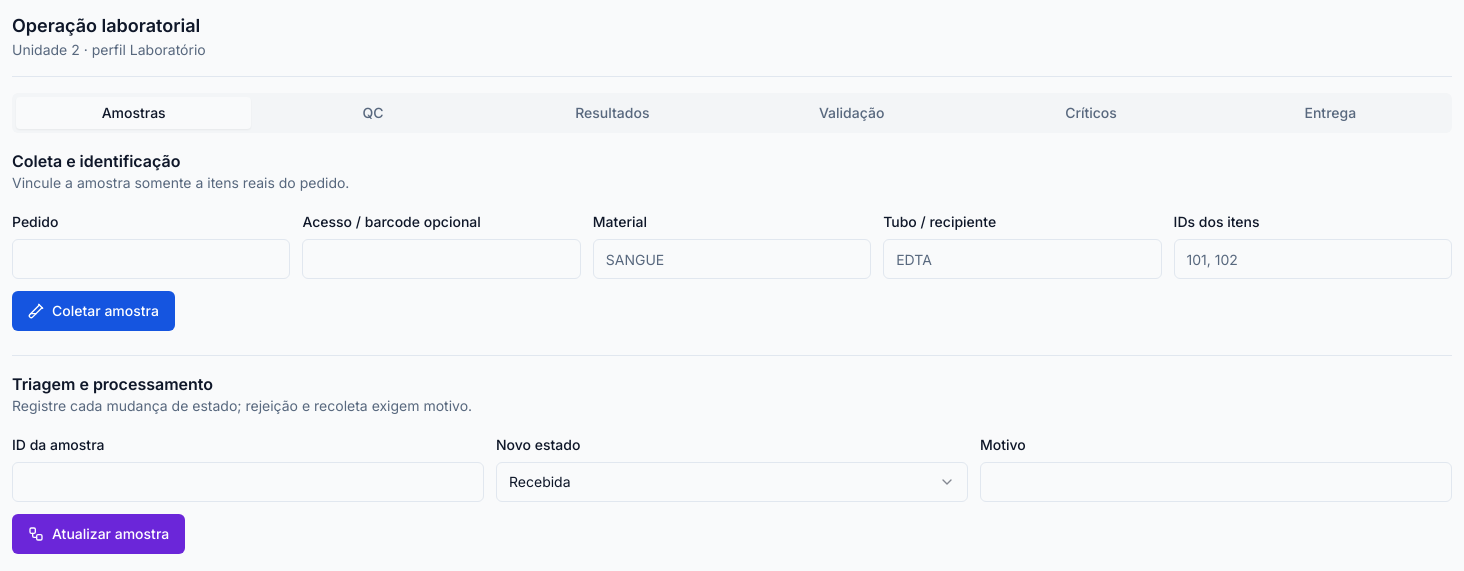
Test: LisOperationsPanel › impede laboratório de liberar resultado e permite validação técnica
This screenshot has width=1464, height=571.
Later steps or results of the test are not shown.
Press the mouse on the tab "Validação": (852, 113) x1=734 y1=97 x2=969 y2=129
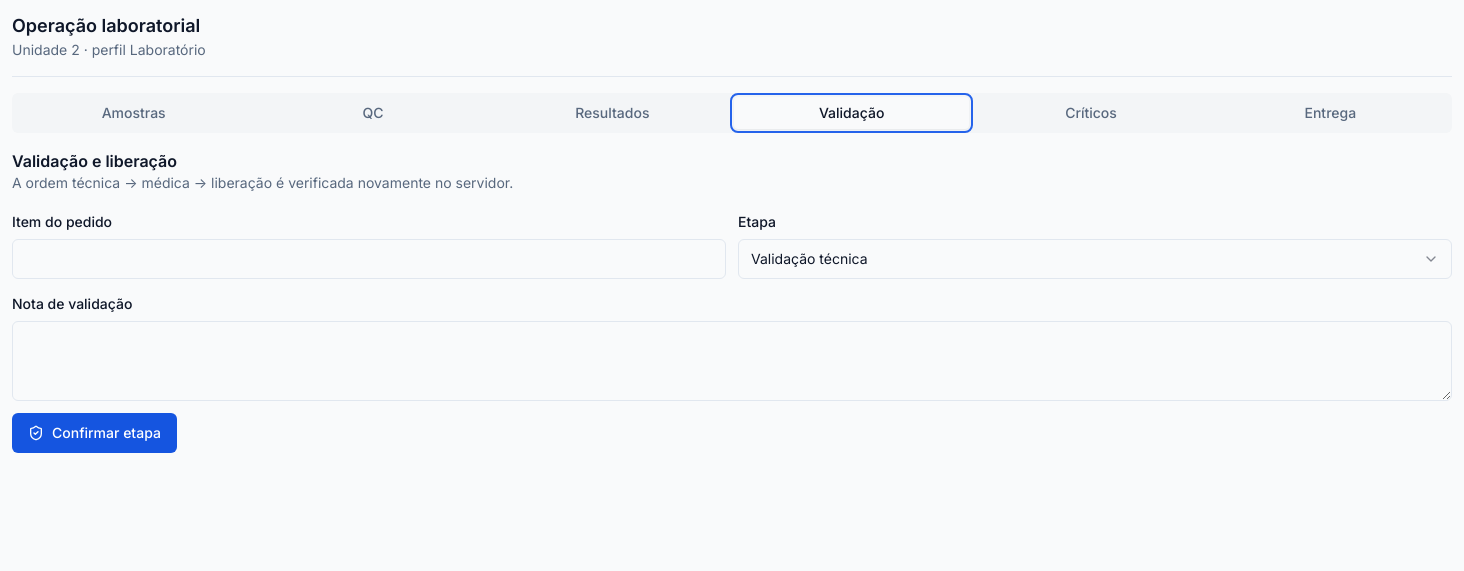
Click the tab "Validação": (852, 113) x1=734 y1=97 x2=969 y2=129
Now the button "Confirmar etapa" is enabled, box x1=12 y1=413 x2=177 y2=453
